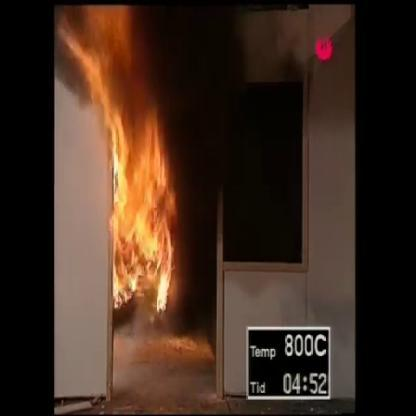fire: (100, 97, 174, 328), (70, 0, 139, 113)
